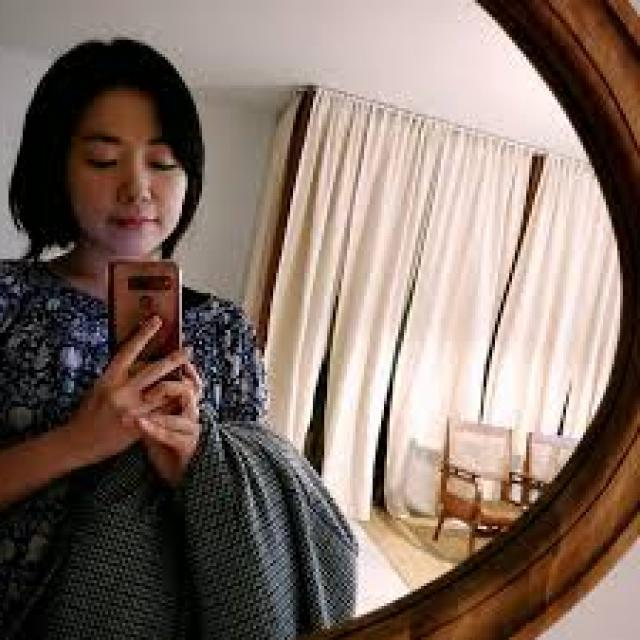phone: (106, 258, 186, 406)
